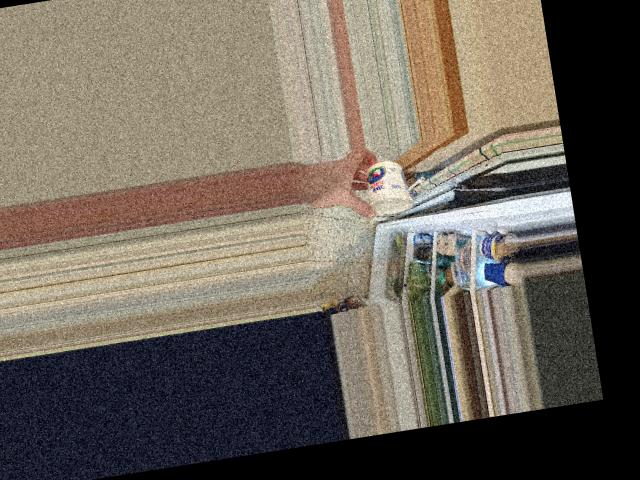cotage: (359, 155, 414, 217)
